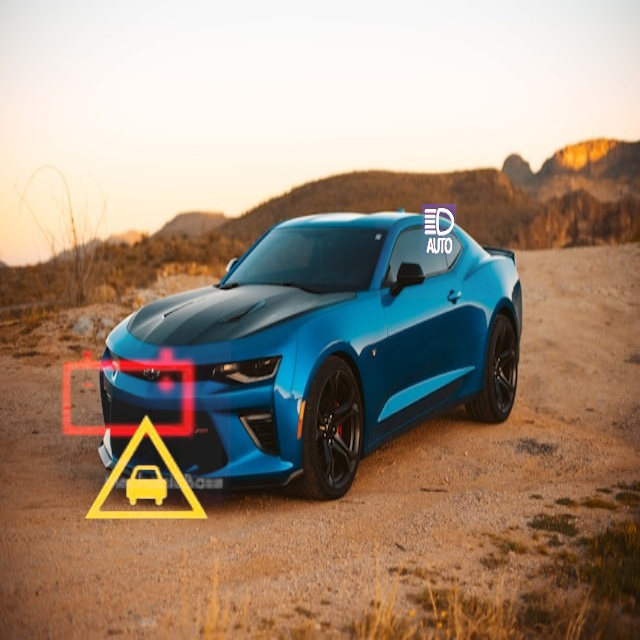symbol: (21, 289, 231, 499), (70, 394, 222, 546), (375, 171, 503, 299)
